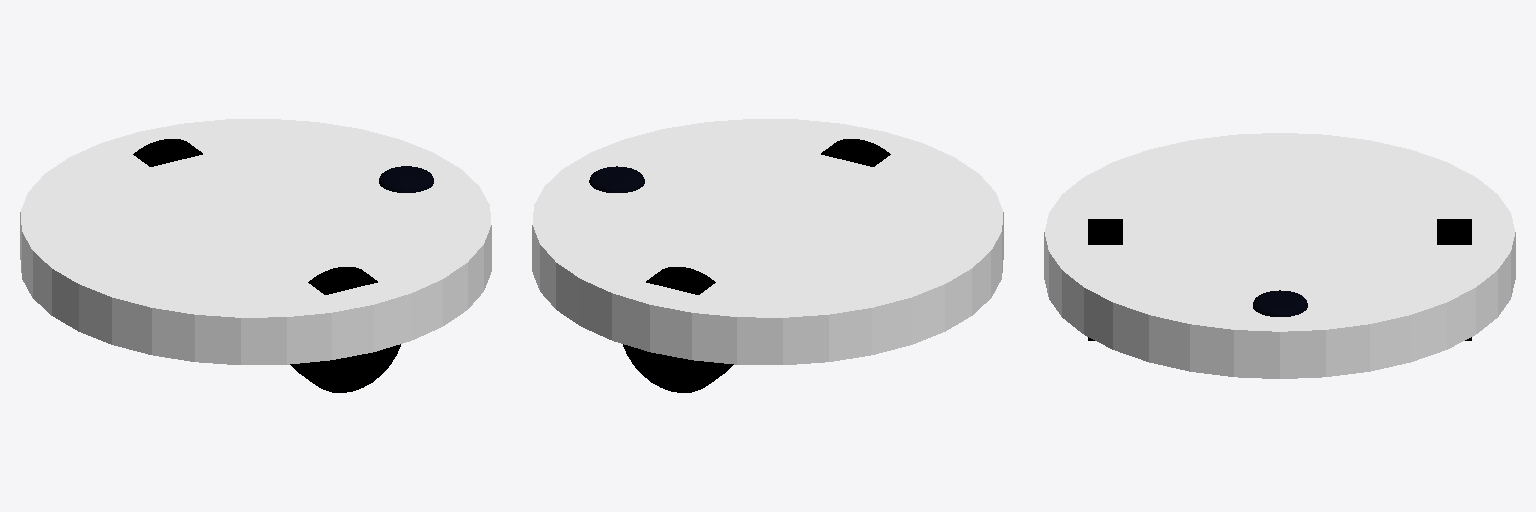
The robot description file, URDF, robot "mycar":
<robot name="mycar">  
  <link name="base_link">  
    <visual>  
       <geometry>  
          <cylinder length=".06" radius="0.27"></cylinder>  
       </geometry>  
       <origin rpy="0 0 0" xyz="0 0 0.1"/>  
       <material name="white">  
         <color rgba="1 1 1 1"/>  
       </material>  
    </visual>  
  </link>  
  
  <link name="right">  
    <visual>  
      <geometry>  
        <cylinder length="0.04" radius="0.07"/>  
      </geometry>  
      <origin rpy="0  0  0" xyz="0 0 0"/>  
      <material name="black">  
        <color rgba="0 0 0 1"/>  
      </material>  
    </visual>  
  </link>  
  
  <link name="left">  
    <visual>  
      <geometry>  
        <cylinder length="0.04" radius="0.07"/>  
      </geometry>  
      <origin rpy="0  0  0" xyz="0 0 0"/>  
      <material name="black"/>  
    </visual>  
  </link>  
  
  <joint name="right" type="continuous"> 
    <origin rpy="1.57075  0  0" xyz="0 -0.2 0.07"/>   
    <parent link="base_link"/>  
    <child link="right"/>  
  </joint>  
  
  <joint name="left" type="continuous">  
    <origin rpy="-1.57075 0 0" xyz="0 0.2 0.07"/>
    <parent link="base_link"/>  
    <child link="left"/>   
  </joint>  
 
 <link name="rplidar">
    <inertial>
      <mass value="1e-5"/>
      <origin rpy="0 0 0" xyz="0 0 0"/>
      <inertia ixx="1e-6" ixy="0" ixz="0" iyy="1e-6" iyz="0" izz="1e-6"/>
    </inertial>
    <visual>
      <origin rpy="0 0 0" xyz="0 0 0"/>
      <geometry>
        <mesh filename="package://tf_demo/urdf/rplidar.dae"/>
      </geometry>
    </visual>
    <collision>
      <origin rpy="0 0 0" xyz="0 0 0"/>
      <geometry>
        <cylinder length=".04" radius="0.035"></cylinder>  
      </geometry>
    </collision>
  </link>
  <joint name="rplidar_joint" type="fixed">
    <axis xyz="0 1 0"/>
    <origin xyz="0.2 0 0.12"/>
    <parent link="base_link"/>
    <child link="rplidar"/>
  </joint>

</robot>  

--- What the picture shows (computed from the rendered views, not written in the file) ---
Views: 3 orthographic renders of the robot side by side, from view 1: azimuth 30°, elevation 25°; view 2: azimuth 150°, elevation 25°; view 3: azimuth 270°, elevation 25°.
Model mycar with 4 links and 3 joints (2 continuous, 1 fixed), rooted at base_link, posed every joint at zero.
Visible links, largest first — view 1: base_link, right, left, rplidar; view 2: base_link, left, right, rplidar; view 3: base_link, rplidar, right, left.
Boxes of the visible links, box(x1,y1,x2,y2) form: base_link: box(20, 119, 491, 364); right: box(290, 267, 400, 392); left: box(133, 139, 202, 166); rplidar: box(379, 166, 433, 192); base_link: box(532, 119, 1003, 364); left: box(623, 267, 733, 392); right: box(821, 139, 890, 166); rplidar: box(589, 166, 644, 192); base_link: box(1044, 133, 1515, 378); rplidar: box(1253, 290, 1307, 316); right: box(1088, 219, 1122, 340); left: box(1437, 219, 1471, 340).
Bounding box of the posed robot: 0.54 × 0.54 × 0.14 m (x, y, z).
1 mesh visuals loaded from 1 distinct referenced files (1 Collada DAE).